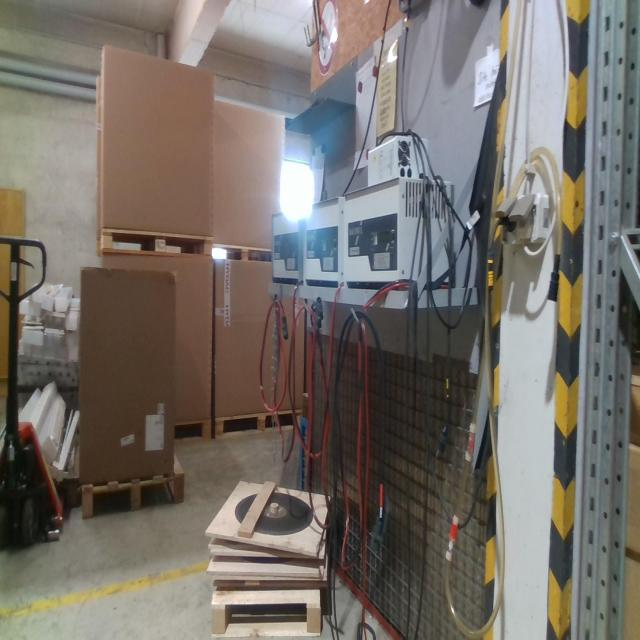pallet: (78, 456, 186, 522), (210, 589, 324, 638), (100, 224, 214, 259), (213, 409, 303, 441), (214, 240, 274, 267), (172, 417, 211, 448)
pallet_truck: (1, 225, 62, 555)
